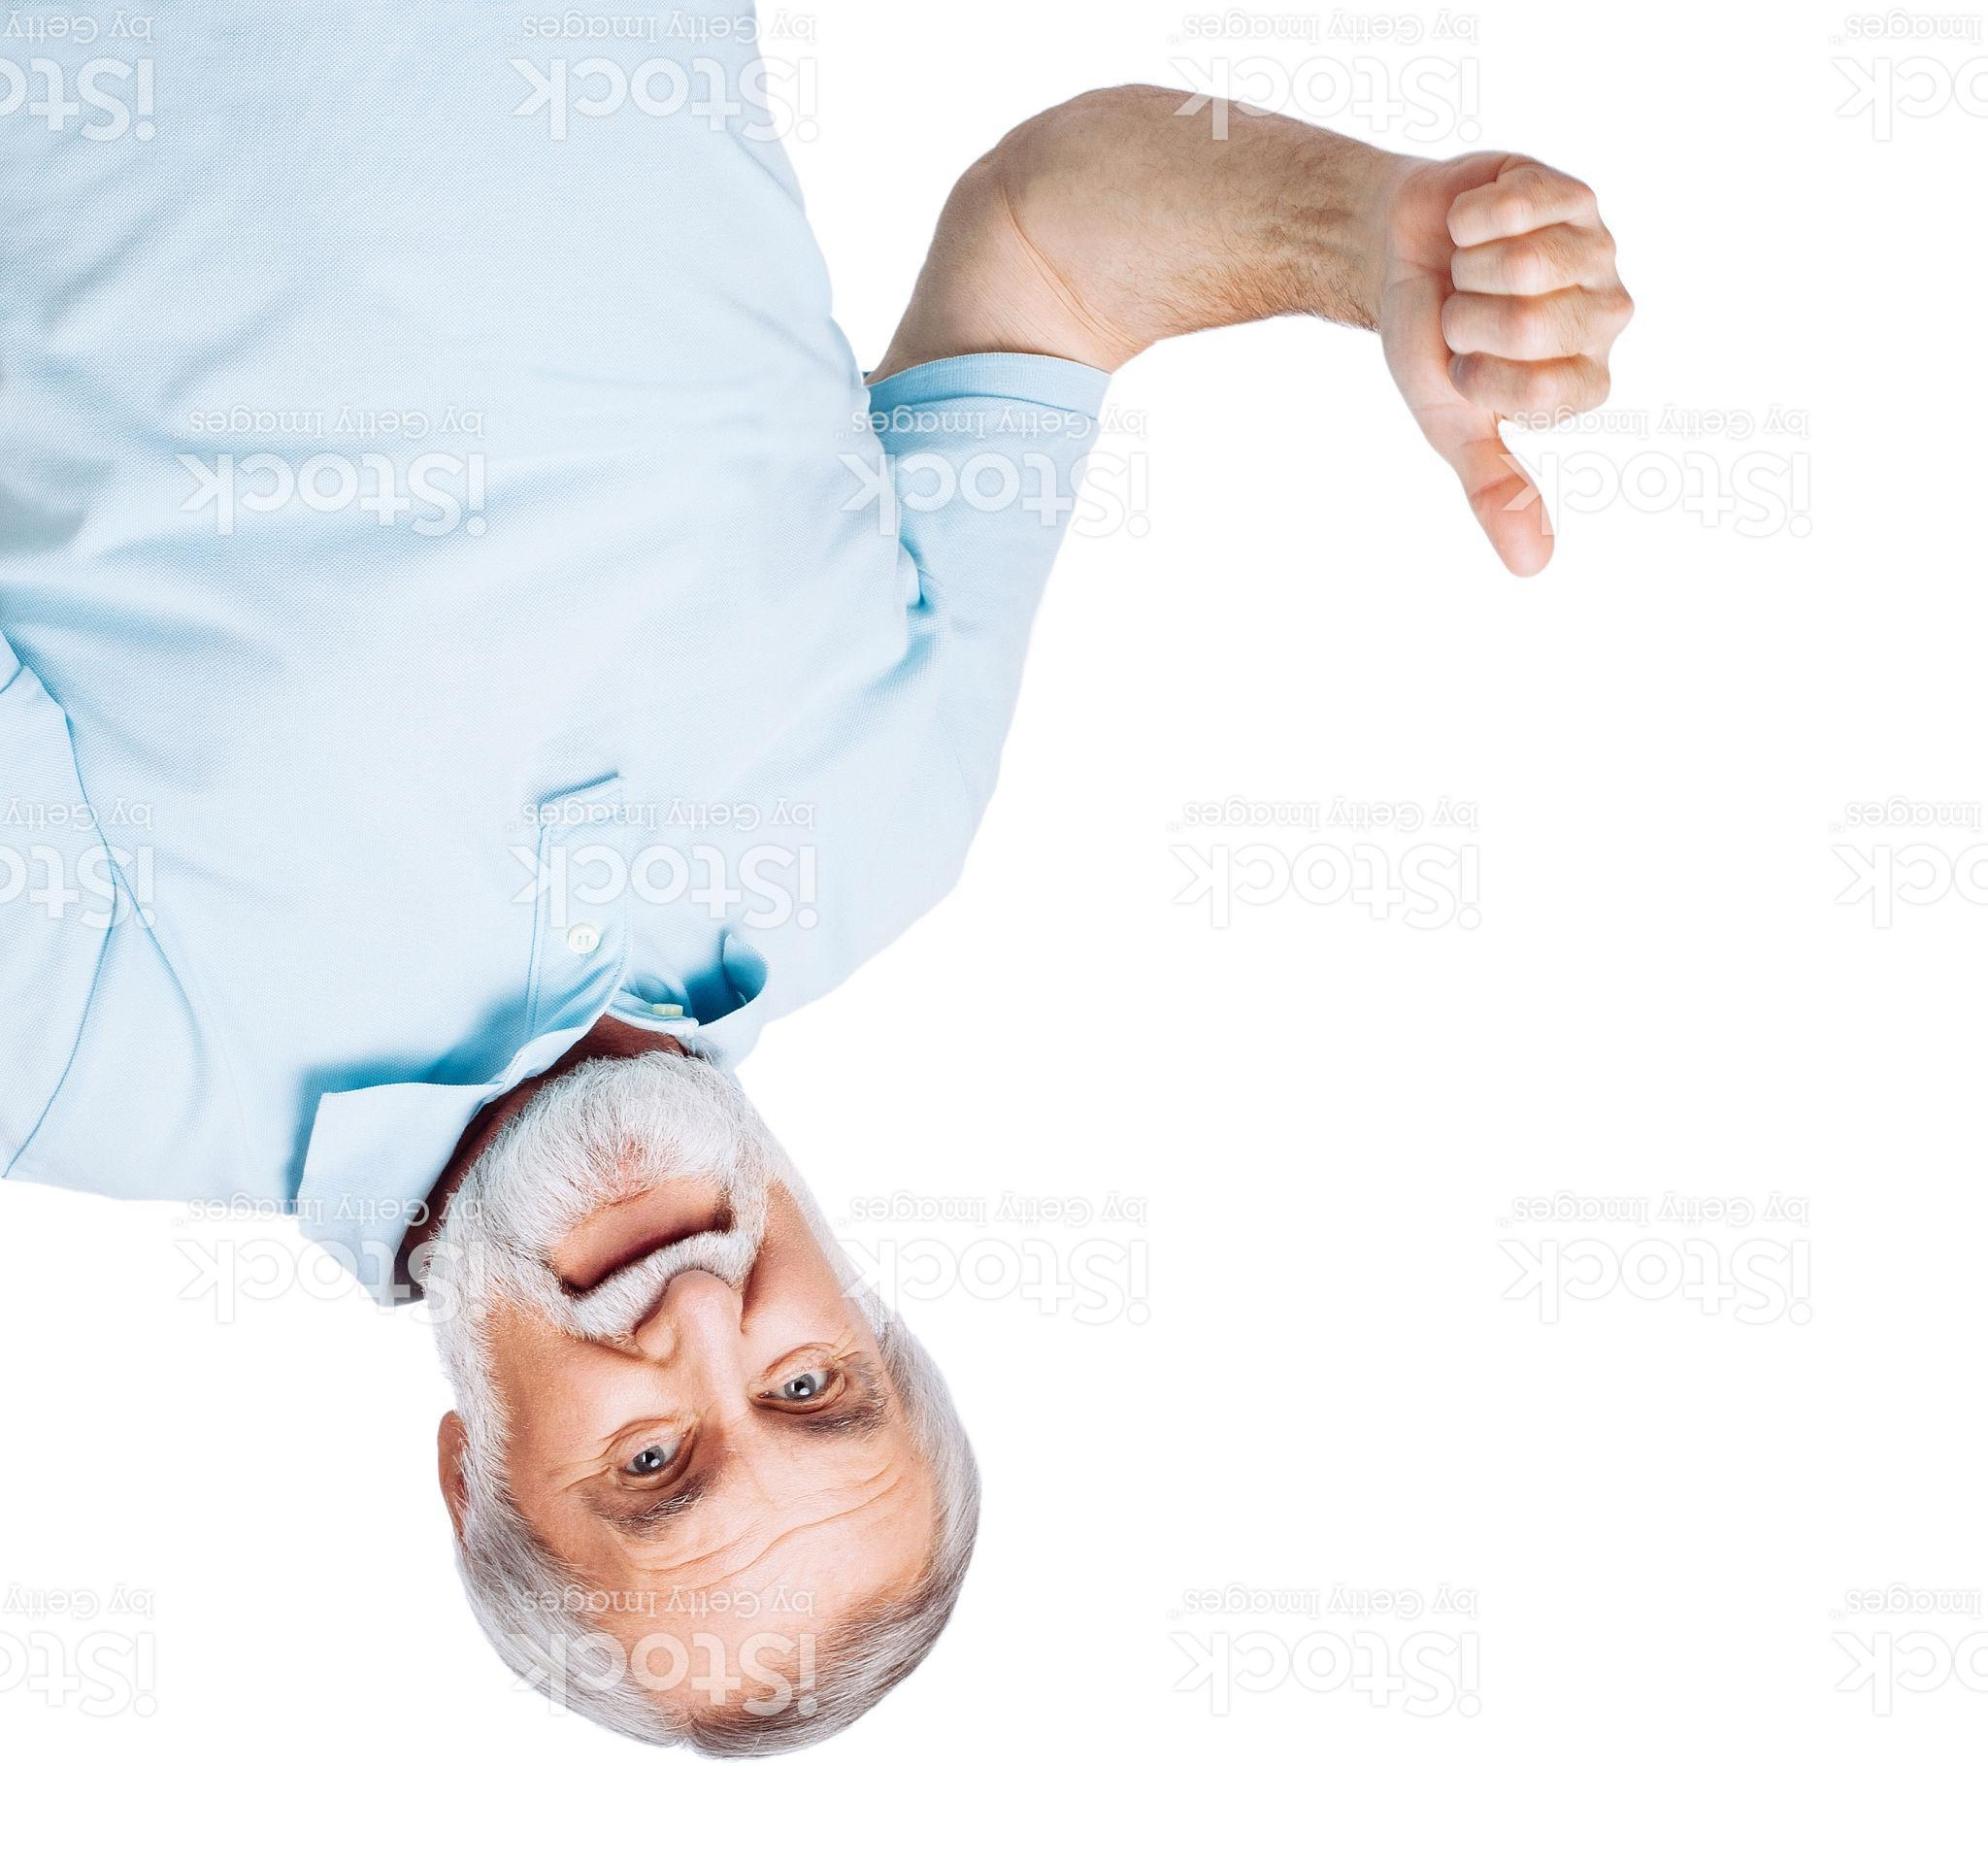thumbsdown: (1385, 147, 1638, 580)
